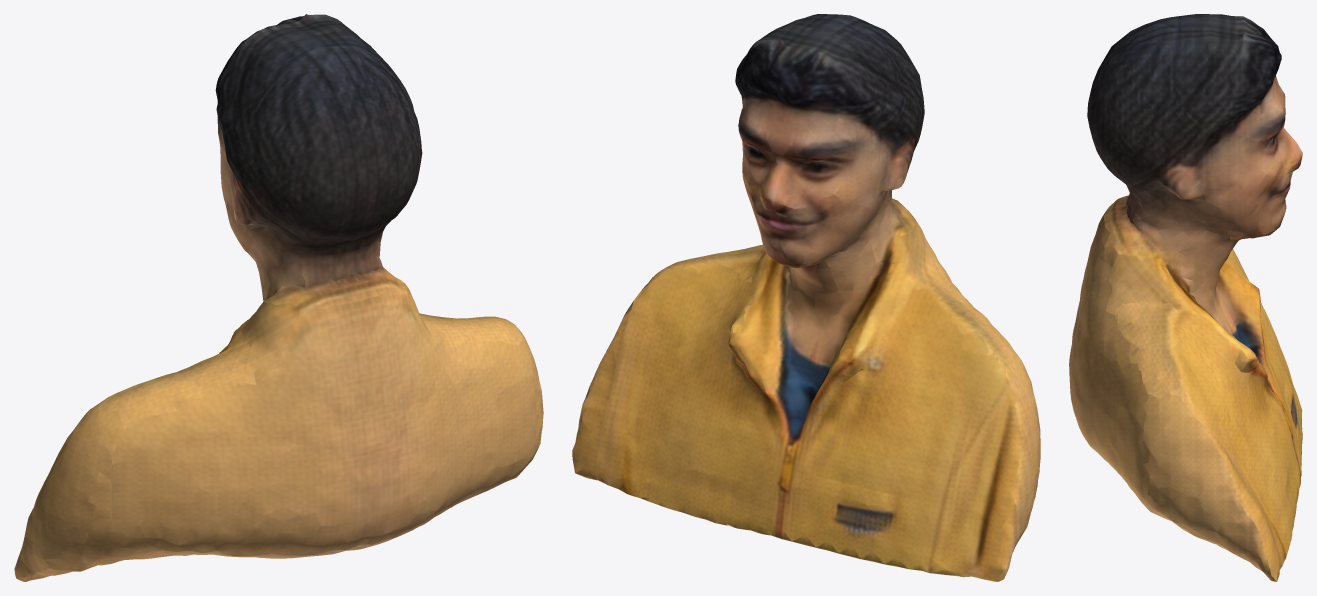
3 views of the same model, side by side, from view 1: azimuth 30°, elevation 25°; view 2: azimuth 150°, elevation 25°; view 3: azimuth 270°, elevation 25° (orthographic). The views are drawn at different scales.
Visible parts, largest first — view 1: world; view 2: world; view 3: world.
Boxes of the visible parts, x1=… form: world: x1=14, y1=14, x2=543, y2=581; world: x1=572, y1=14, x2=1040, y2=581; world: x1=1069, y1=14, x2=1302, y2=581.
Size of the model in its own units: 0.8357 by 0.8598 by 0.3902.
1 material, 1 textured.
